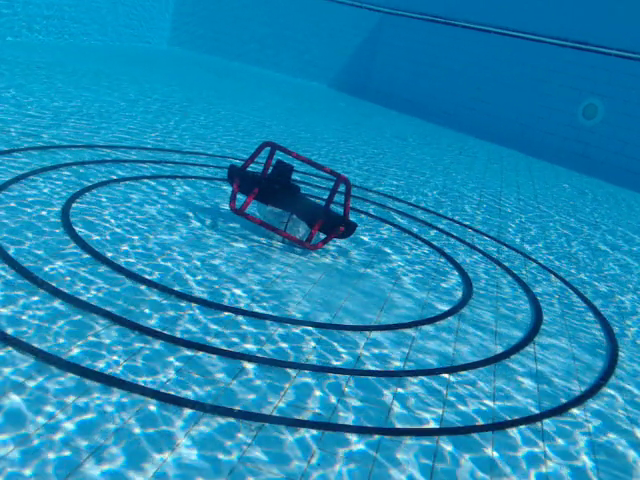submarine: (227, 140, 358, 252)
